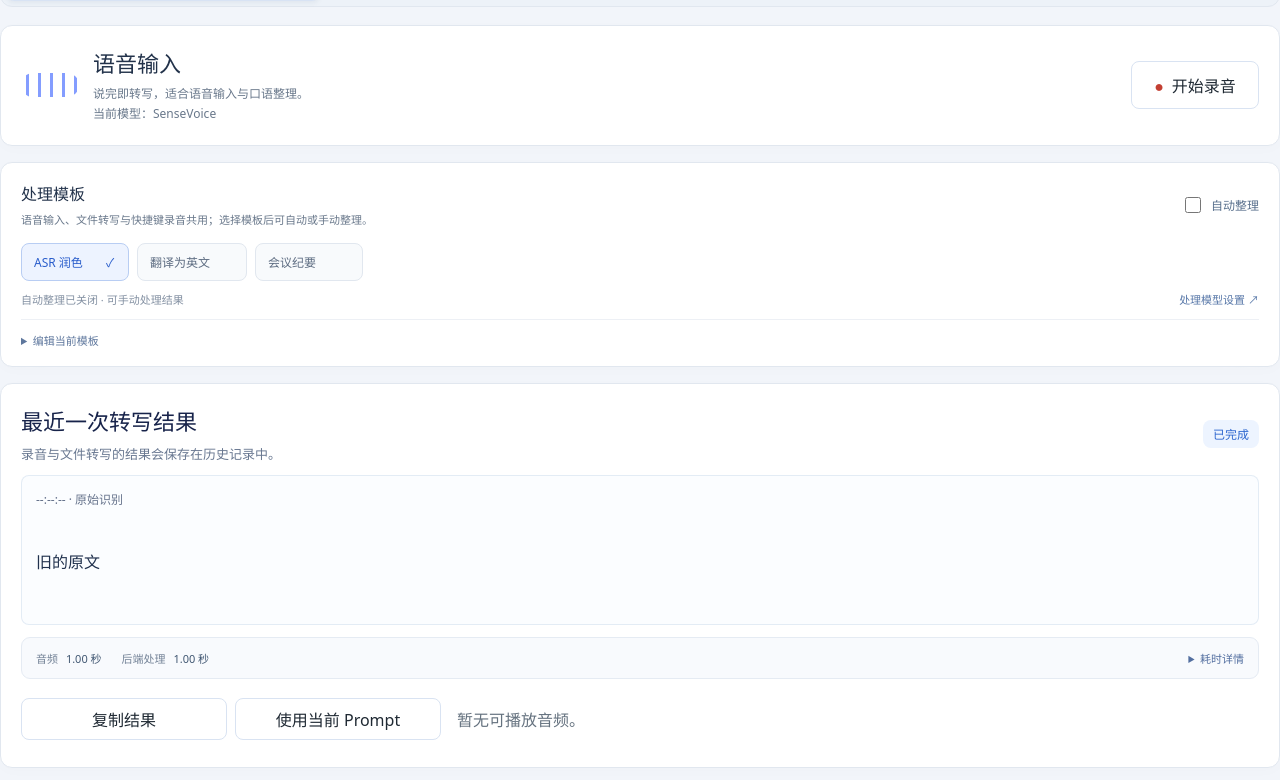
recognition task workspaces › archives completed polish on the original task without overwriting a newer recognition result
The width and height of the screenshot is (1280, 780).
(page scrolled)
Click the button "使用当前 Prompt" at {"x": 338, "y": 720}, box [235, 698, 441, 740]
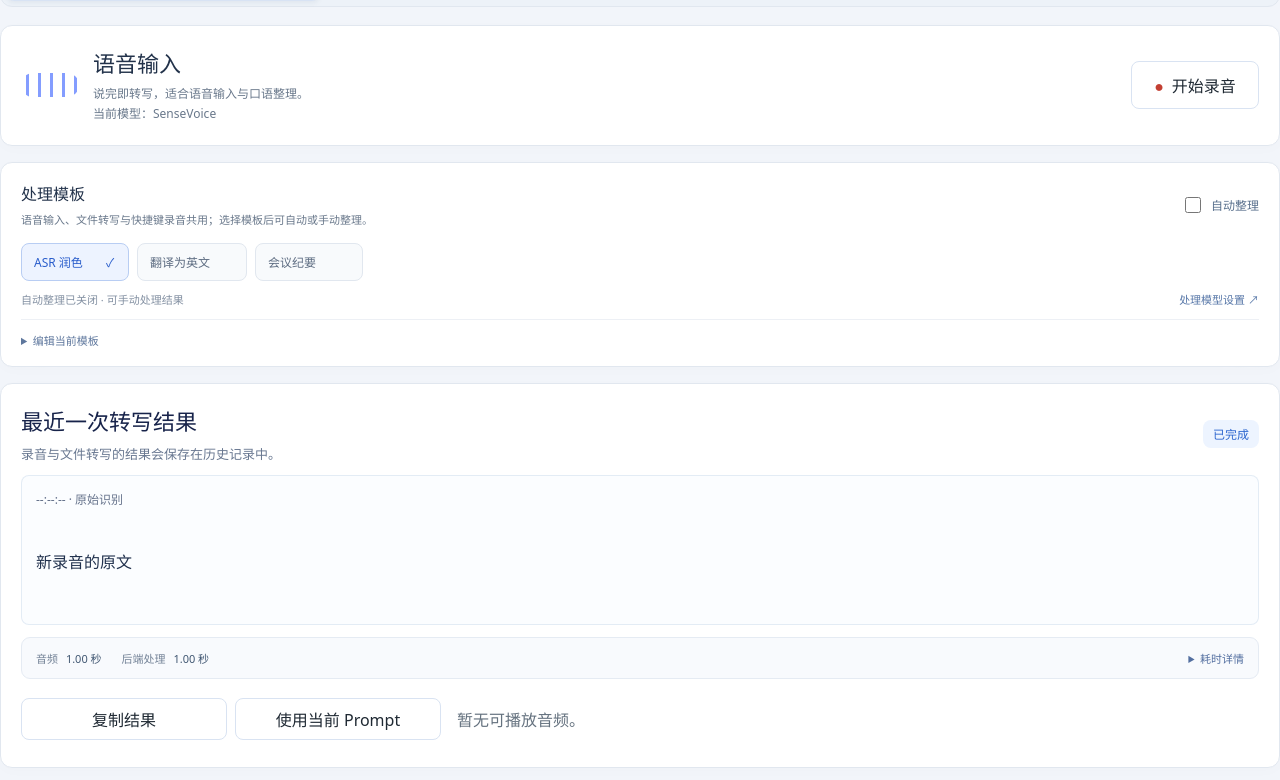
Expected: the text "新录音的原文" is shown, [36, 551, 132, 573]
